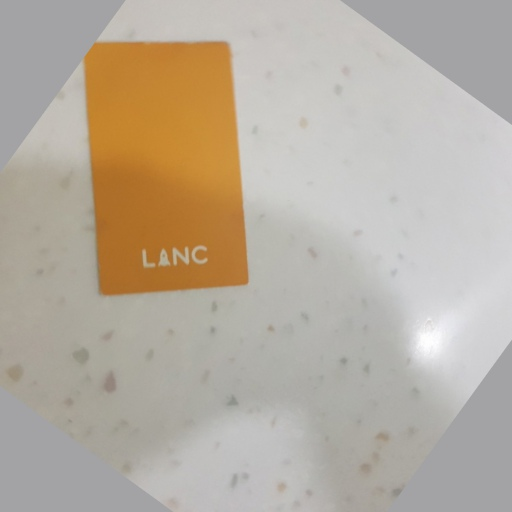Paper_2: (80, 36, 259, 294)
